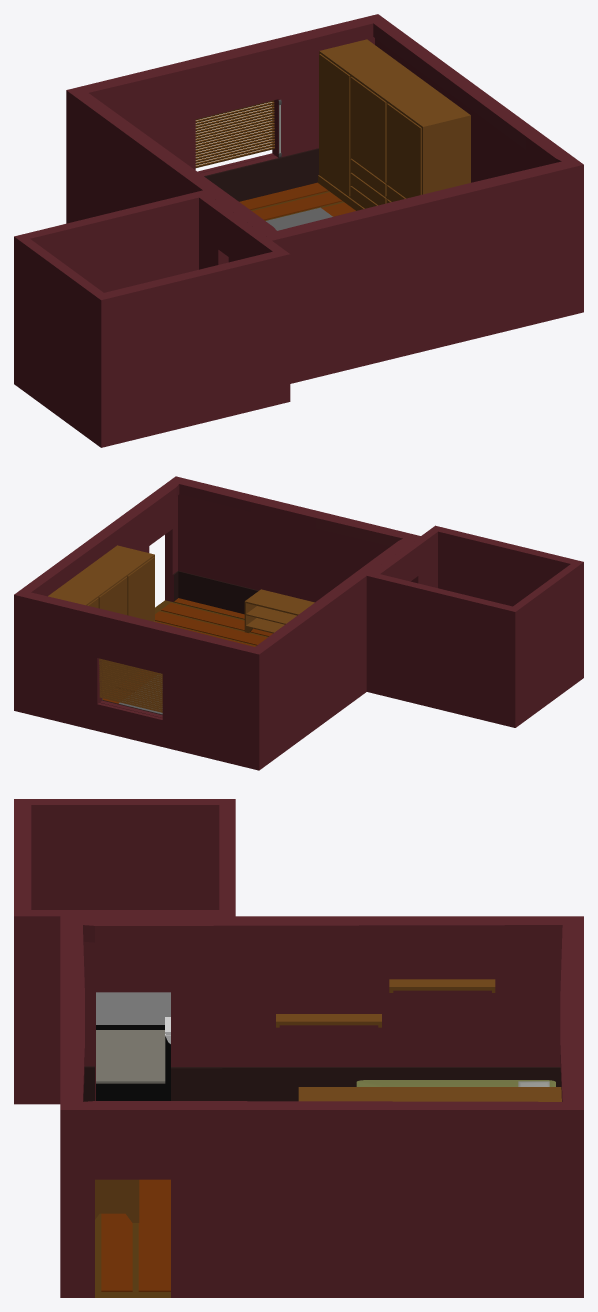
Rendered from Cuarto.fbx.
The picture shows the model from 3 angles, top to bottom: view 1: azimuth 30°, elevation 25°; view 2: azimuth 150°, elevation 25°; view 3: azimuth 270°, elevation 25°; orthographic projection. The views are drawn at different scales.
Visible parts, largest first — view 1: Plane.004, placard, Cube.005, alfombra; view 2: Plane.004, placard, Cube.005, mueble; view 3: Plane.004, placard, Cube.016, ducha, mueble, Cube.010, Cube.009, Cube.018.
Boxes of the visible parts, <box> form: Plane.004: <box>14,14,583,447</box>; placard: <box>318,39,470,210</box>; Cube.005: <box>195,100,274,167</box>; alfombra: <box>266,207,332,230</box>; Plane.004: <box>14,476,583,770</box>; placard: <box>48,545,154,694</box>; Cube.005: <box>99,658,162,712</box>; mueble: <box>244,589,314,633</box>; Plane.004: <box>14,799,583,1297</box>; placard: <box>298,1087,561,1101</box>; Cube.016: <box>96,1030,165,1083</box>; ducha: <box>96,992,170,1024</box>; mueble: <box>95,1179,139,1222</box>; Cube.010: <box>389,979,495,992</box>; Cube.009: <box>276,1014,381,1027</box>; Cube.018: <box>356,1080,555,1086</box>.
Bounding box in the file's own units: 1616 × 455 × 1252.
